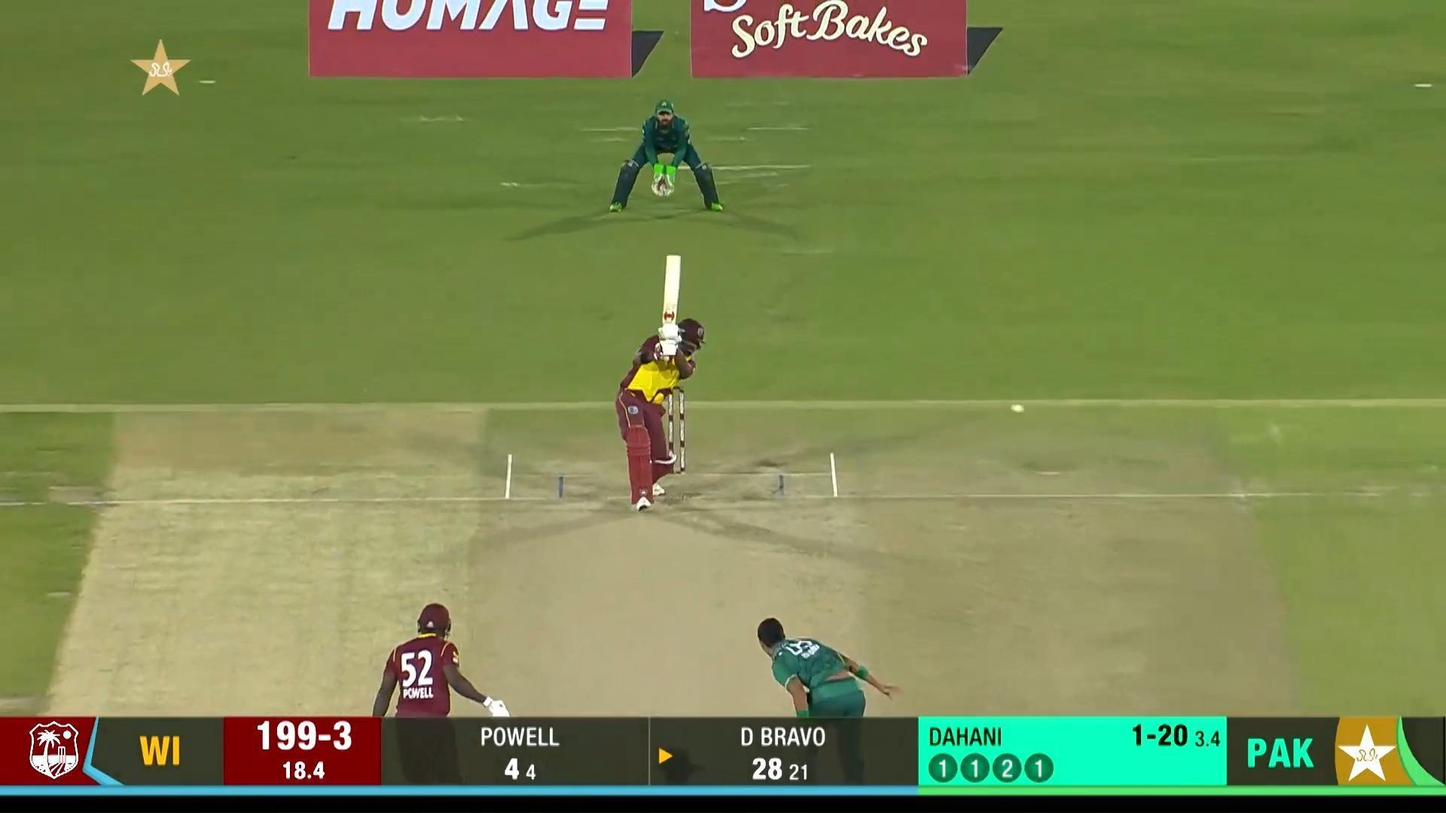BM 1: (615, 254, 706, 512)
BO: (757, 618, 905, 717)
